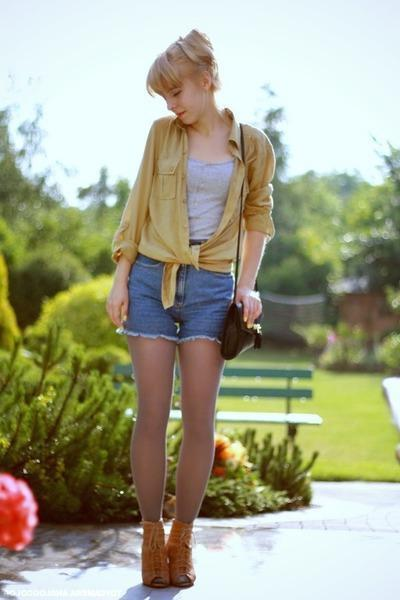Shorts: (116, 262, 248, 344)
long sleeve shirt: (99, 108, 280, 274)
vest: (152, 142, 239, 245)
